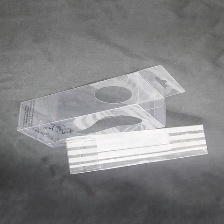plastic_box: (11, 58, 214, 179)
